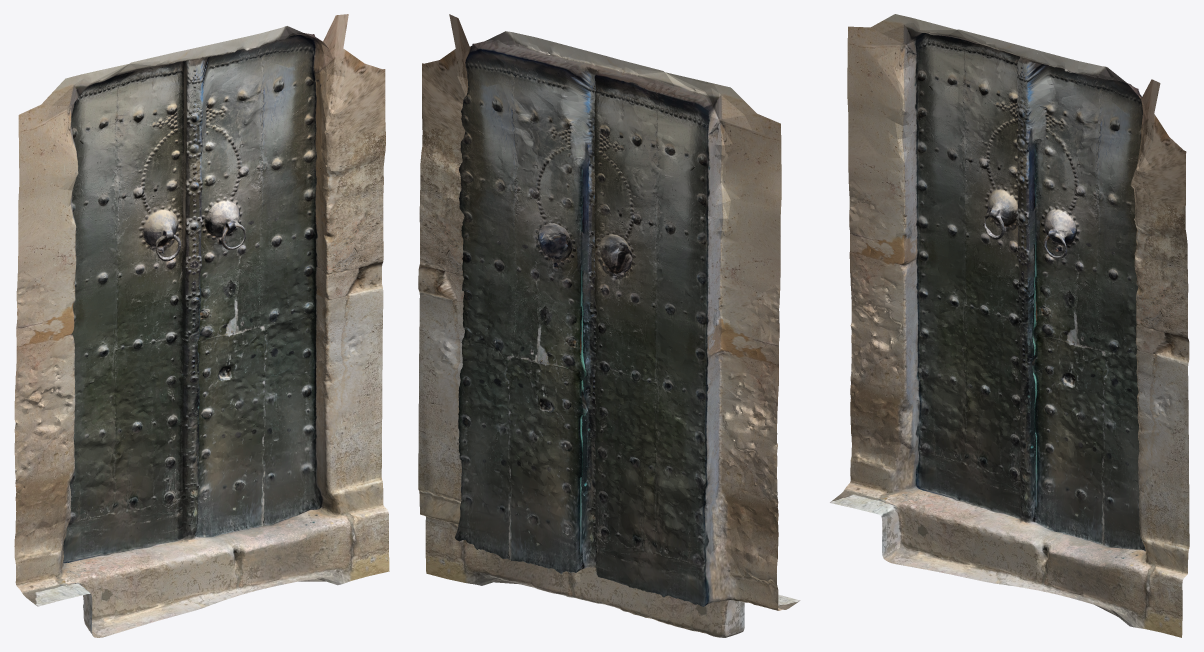
The model's file is traditional_door__medina_of_tunis.glb.
3 views of the same model, side by side, from view 1: azimuth 30°, elevation 25°; view 2: azimuth 150°, elevation 25°; view 3: azimuth 330°, elevation 25° (orthographic). The views are drawn at different scales.
Visible parts, largest first — view 1: Object_3, Object_4; view 2: Object_3, Object_4; view 3: Object_3, Object_4.
Part boxes in pixels (x1=…): Object_3: x1=14, y1=26, x2=389, y2=637; Object_4: x1=14, y1=14, x2=387, y2=637; Object_3: x1=418, y1=32, x2=800, y2=637; Object_4: x1=418, y1=14, x2=781, y2=637; Object_3: x1=830, y1=14, x2=1189, y2=637; Object_4: x1=847, y1=23, x2=1189, y2=632.
Bounding box in the file's own units: 1.68 × 2.51 × 0.2862.
Materials: 1 (1 with a texture image).
